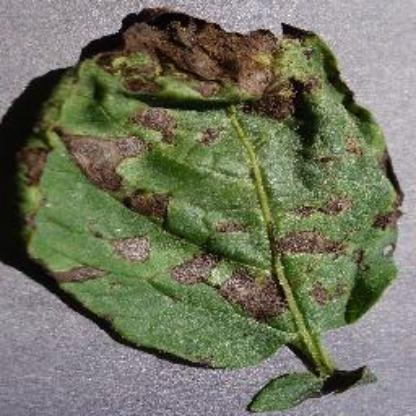Early-Blight: (14, 6, 404, 408)
